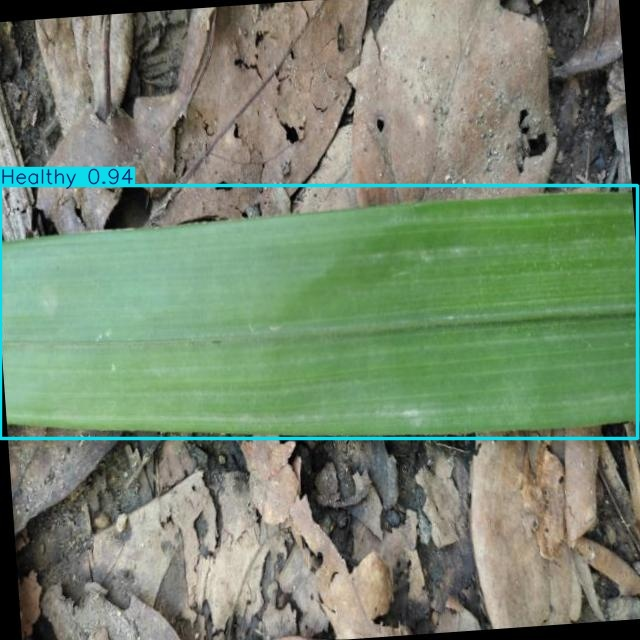Healthy: (0, 186, 638, 439)
